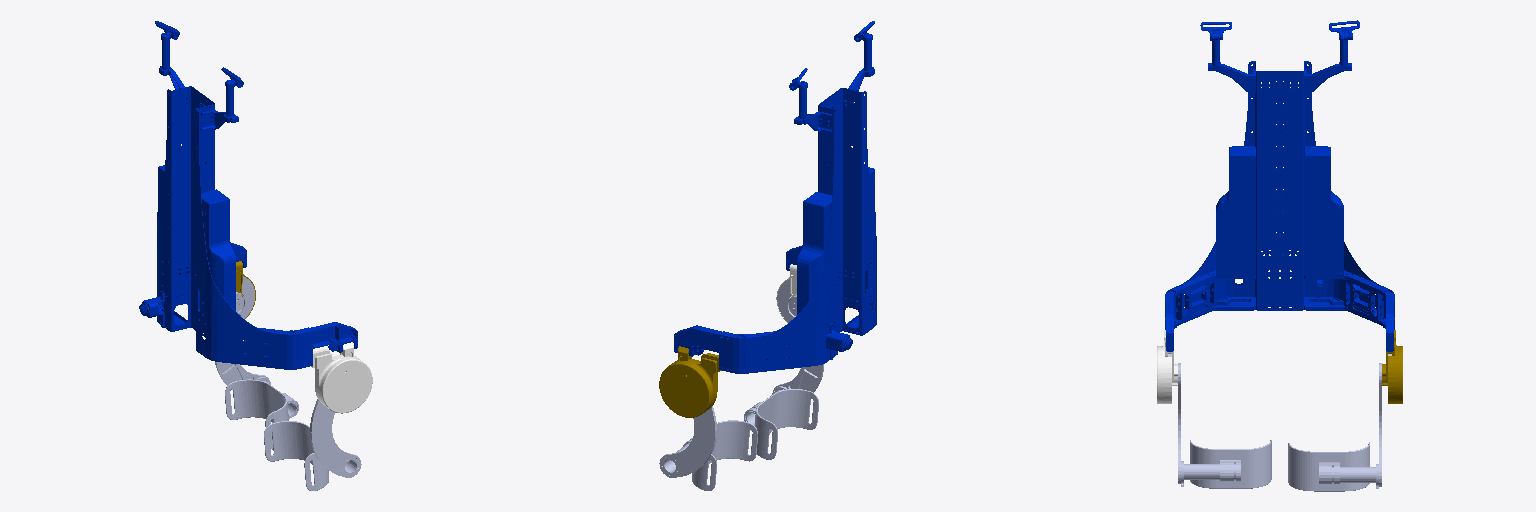
URDF robot description (Complete_assemblt_electronics_3):
<?xml version="1.0" encoding="utf-8"?>
<!-- This URDF was automatically created by SolidWorks to URDF Exporter! Originally created by [author] ([email redacted]) 
     Commit Version: 1.6.0-4-g7f85cfe  Build Version: 1.6.7995.38578
     For more information, please see http://wiki.ros.org/sw_urdf_exporter -->
<robot
  name="Complete_assemblt_electronics_3">
  <link
    name="base_link">
    <inertial>
      <origin
        xyz="-0.094667 0.0022608 -0.084456"
        rpy="0 0 0" />
      <mass
        value="3" />
      <inertia
        ixx="0.017243"
        ixy="3.6737E-06"
        ixz="0.00041579"
        iyy="0.013605"
        iyz="1.6916E-06"
        izz="0.0061127" />
    </inertial>
    <visual>
      <origin
        xyz="0 0 0"
        rpy="0 0 0" />
      <geometry>
        <mesh
          filename="meshes/base_link.STL" />
      </geometry>
      <material
        name="">
        <color
          rgba="0.0078431 0.23922 0.82353 1" />
      </material>
    </visual>
    <collision>
      <origin
        xyz="0 0 0"
        rpy="0 0 0" />
      <geometry>
        <mesh
          filename="meshes/base_link.STL" />
      </geometry>
    </collision>
  </link>
  <link
    name="Left_Link">
    <inertial>
      <origin
        xyz="-0.022183 0.0047532 -0.03834"
        rpy="0 0 0" />
      <mass
        value="0.11805" />
      <inertia
        ixx="8.5123E-05"
        ixy="-5.715E-07"
        ixz="1.1619E-05"
        iyy="0.00014862"
        iyz="3.5061E-06"
        izz="7.11E-05" />
    </inertial>
    <visual>
      <origin
        xyz="0 0 0"
        rpy="0 0 0" />
      <geometry>
        <mesh
          filename="meshes/Left_Link.STL" />
      </geometry>
      <material
        name="">
        <color
          rgba="0.64706 0.51765 0 1" />
      </material>
    </visual>
    <collision>
      <origin
        xyz="0 0 0"
        rpy="0 0 0" />
      <geometry>
        <mesh
          filename="meshes/Left_Link.STL" />
      </geometry>
    </collision>
  </link>
  <joint
    name="Left_joint_1"
    type="continuous">
    <origin
      xyz="0.092787 0.20811 -0.23527"
      rpy="0 0 0" />
    <parent
      link="base_link" />
    <child
      link="Left_Link" />
    <axis
      xyz="1 0 0" />
  </joint>
  <link
    name="Left_leg">
    <inertial>
      <origin
        xyz="0.016665 -0.028784 -0.11435"
        rpy="0 0 0" />
      <mass
        value="0.26389" />
      <inertia
        ixx="0.00069355"
        ixy="7.8535E-07"
        ixz="9.6042E-05"
        iyy="0.00062581"
        iyz="-1.2624E-06"
        izz="0.00037551" />
    </inertial>
    <visual>
      <origin
        xyz="0 0 0"
        rpy="0 0 0" />
      <geometry>
        <mesh
          filename="meshes/Left_leg.STL" />
      </geometry>
      <material
        name="">
        <color
          rgba="0.79216 0.81961 0.93333 1" />
      </material>
    </visual>
    <collision>
      <origin
        xyz="0 0 0"
        rpy="0 0 0" />
      <geometry>
        <mesh
          filename="meshes/Left_leg.STL" />
      </geometry>
    </collision>
  </link>
  <joint
    name="Left_pulley"
    type="continuous">
    <origin
      xyz="-0.0127500000009038 -0.0178035427895009 -0.0694292275321228"
      rpy="0 0 0" />
    <parent
      link="Left_Link" />
    <child
      link="Left_leg" />
    <axis
      xyz="0 1 0" />
  </joint>
  <link
    name="Right_Link">
    <inertial>
      <origin
        xyz="0 0 0"
        rpy="0 0 0" />
      <mass
        value="0.11805" />
      <inertia
        ixx="0"
        ixy="0"
        ixz="0"
        iyy="0"
        iyz="0"
        izz="0" />
    </inertial>
    <visual>
      <origin
        xyz="0 0 0"
        rpy="0 0 0" />
      <geometry>
        <mesh
          filename="meshes/Right_Link.STL" />
      </geometry>
      <material
        name="">
        <color
          rgba="1 1 1 1" />
      </material>
    </visual>
    <collision>
      <origin
        xyz="0 0 0"
        rpy="0 0 0" />
      <geometry>
        <mesh
          filename="meshes/Right_Link.STL" />
      </geometry>
    </collision>
  </link>
  <joint
    name="Right_joint_1"
    type="continuous">
    <origin
      xyz="0.093286747064502 -0.208518430884413 -0.235189567929021"
      rpy="0 0 0" />
    <parent
      link="base_link" />
    <child
      link="Right_Link" />
    <axis
      xyz="1 0 0" />
  </joint>
  <link
    name="Right_leg">
    <inertial>
      <origin
        xyz="0.002132 0.028749 -0.11618"
        rpy="0 0 0" />
      <mass
        value="0.26389" />
      <inertia
        ixx="0.00071341"
        ixy="-2.3545E-07"
        ixz="5.4585E-05"
        iyy="0.00062581"
        iyz="1.5432E-06"
        izz="0.00035565" />
    </inertial>
    <visual>
      <origin
        xyz="0 0 0"
        rpy="0 0 0" />
      <geometry>
        <mesh
          filename="meshes/Right_leg.STL" />
      </geometry>
      <material
        name="">
        <color
          rgba="0.79216 0.81961 0.93333 1" />
      </material>
    </visual>
    <collision>
      <origin
        xyz="0 0 0"
        rpy="0 0 0" />
      <geometry>
        <mesh
          filename="meshes/Right_leg.STL" />
      </geometry>
    </collision>
  </link>
  <joint
    name="Right_pulley"
    type="continuous">
    <origin
      xyz="-0.0127499999836385 0.0182086770985367 -0.069507617020623"
      rpy="0 0 0" />
    <parent
      link="Right_Link" />
    <child
      link="Right_leg" />
    <axis
      xyz="0 1 0" />
  </joint>

<!-- virtual links: leftThigh -->
  <link name="leftThigh"> </link>
  <joint
    name="leftThigh_J"
    type="fixed">
    <origin
      xyz="0.053762218819415 0.00299999999727599 -0.183517366555925"
      rpy="0 0 0" />
    <parent
      link="Left_leg" />
    <child
      link="leftThigh" />
    <axis
      xyz="0 0 0" />
  </joint>

<!-- virtual links: rightThigh -->
  <link name="rightThigh"> </link>
  <joint
    name="rightThigh_J"
    type="fixed">
    <origin
      xyz="0.0300706749316456 -0.0029999999369727 -0.188851143768638"
      rpy="0 0 0" />
    <parent
      link="Right_leg" />
    <child
      link="rightThigh" />
    <axis
      xyz="0 0 0" />
  </joint>

<!-- virtual links: trunk -->
  <link name="trunk"> </link>
  <joint
    name="trunk_J"
    type="fixed">
    <origin
      xyz="-0.19827 0.0004412 -0.18652"
      rpy="0 0 0" />
    <parent
      link="base_link" />
    <child
      link="trunk" />
    <axis
      xyz="0 0 0" />
  </joint>
</robot>

--- Facts derived from the render (not from the file) ---
Views: 3 orthographic renders of the robot side by side, from view 1: azimuth 30°, elevation 25°; view 2: azimuth 150°, elevation 25°; view 3: azimuth 270°, elevation 25°.
Robot: Complete_assemblt_electronics_3 — 8 links, 7 joints (4 continuous, 3 fixed); root link base_link; default pose: all joints at 0.
Links seen in each view (by area): view 1: base_link, Right_leg, Left_leg, Right_Link; view 2: base_link, Right_leg, Left_leg, Left_Link; view 3: base_link, Right_leg, Left_leg, Left_Link, Right_Link.
Link boxes in pixels (bbox=[...]): base_link: bbox=[139, 21, 357, 369]; Right_leg: bbox=[264, 399, 361, 490]; Left_leg: bbox=[215, 276, 298, 449]; Right_Link: bbox=[311, 342, 372, 413]; base_link: bbox=[674, 21, 876, 373]; Right_leg: bbox=[744, 279, 823, 459]; Left_leg: bbox=[659, 359, 757, 490]; Left_Link: bbox=[659, 346, 721, 417]; base_link: bbox=[1165, 20, 1394, 351]; Right_leg: bbox=[1168, 354, 1271, 488]; Left_leg: bbox=[1288, 354, 1391, 491]; Left_Link: bbox=[1382, 330, 1402, 403]; Right_Link: bbox=[1157, 330, 1177, 403].
Bounding box of the posed robot: 0.3456 × 0.4676 × 0.8852 m (x, y, z).
5 mesh visuals loaded from 5 distinct referenced files (5 binary STL).
